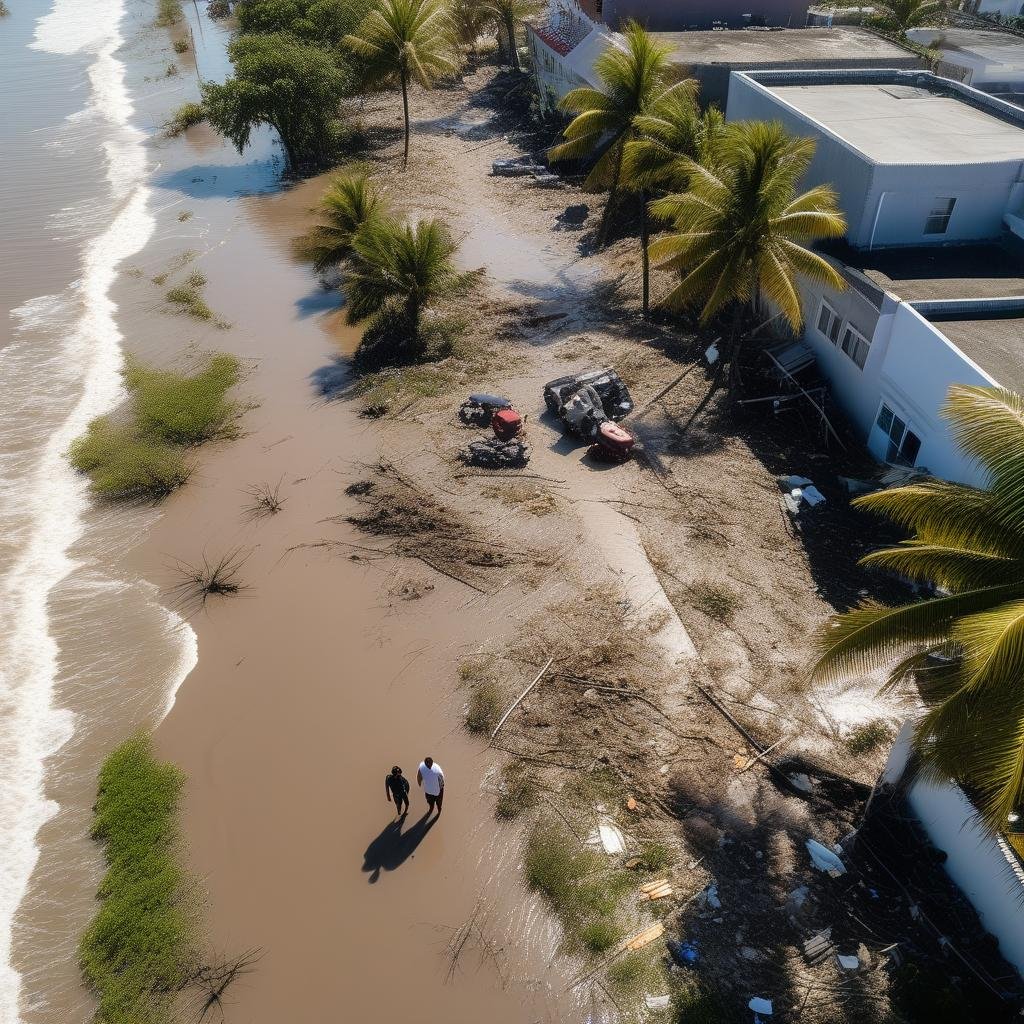victim: (378, 758, 422, 826), (413, 747, 455, 818)
